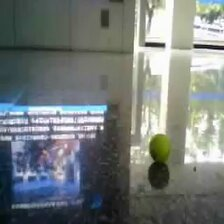tennis: (149, 134, 171, 162)
